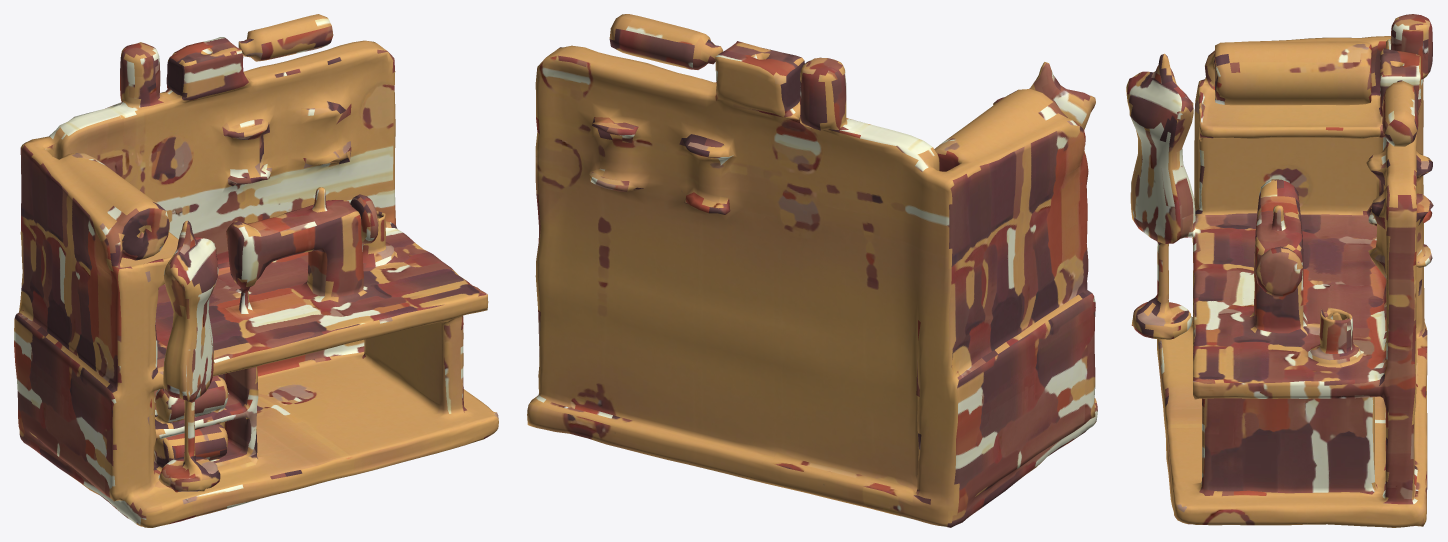
The model's file is B08_SewingTable.fbx.
The picture shows the model from 3 angles, left to right: view 1: azimuth 30°, elevation 25°; view 2: azimuth 150°, elevation 25°; view 3: azimuth 270°, elevation 25°; orthographic projection. The views are drawn at different scales.
Parts seen in each view (by area): view 1: tripo_node_50374d5c; view 2: tripo_node_50374d5c; view 3: tripo_node_50374d5c.
Boxes of the visible parts, x1,y1,x2,y2 form: tripo_node_50374d5c: (14,14,498,527); tripo_node_50374d5c: (527,14,1097,527); tripo_node_50374d5c: (1126,14,1433,527).
Bounding box in the file's own units: 0.9795 × 0.8989 × 0.6557.
